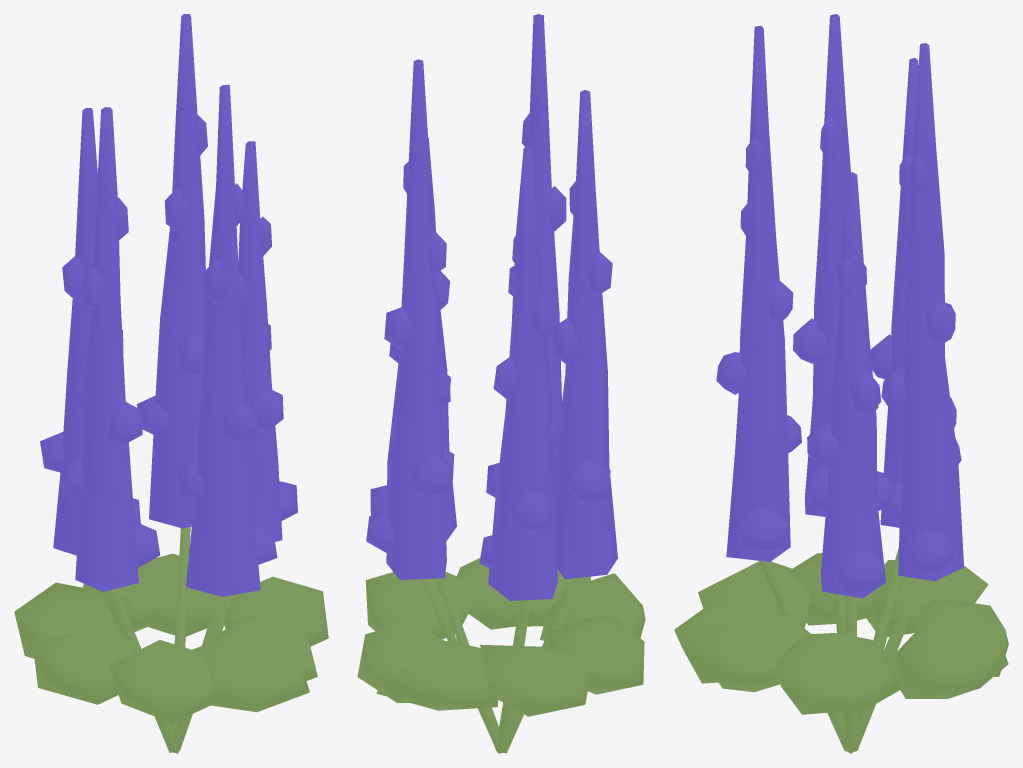
Rendered from Blender_Lupine_1.glb.
3 renders of one model, left to right at view 1: azimuth 30°, elevation 25°; view 2: azimuth 150°, elevation 25°; view 3: azimuth 270°, elevation 25°, orthographic. The views are drawn at different scales.
Parts seen in each view (by area): view 1: Blender_Lupine_1; view 2: Blender_Lupine_1; view 3: Blender_Lupine_1.
Boxes of the visible parts, bbox=[...] form: Blender_Lupine_1: bbox=[14, 14, 328, 753]; Blender_Lupine_1: bbox=[357, 14, 645, 753]; Blender_Lupine_1: bbox=[674, 14, 1008, 753].
Size of the model in its own units: 0.2925 by 0.6972 by 0.2899.
